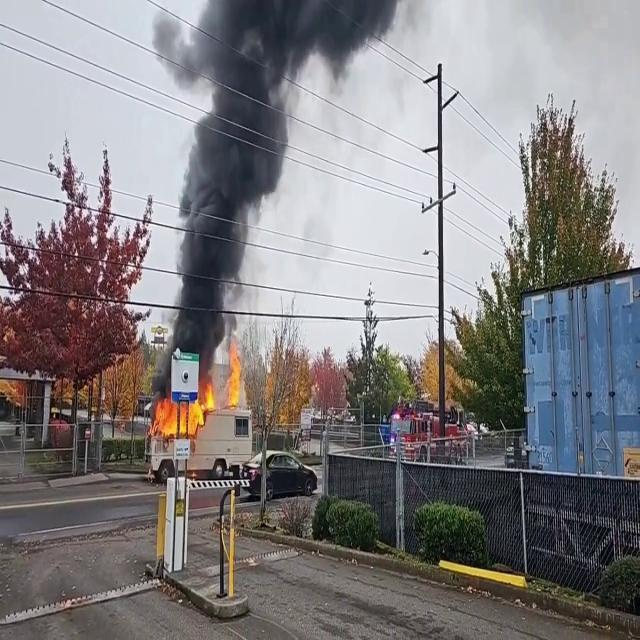Fire: (152, 385, 218, 438), (227, 344, 244, 409)
Smoke: (154, 1, 303, 374)
